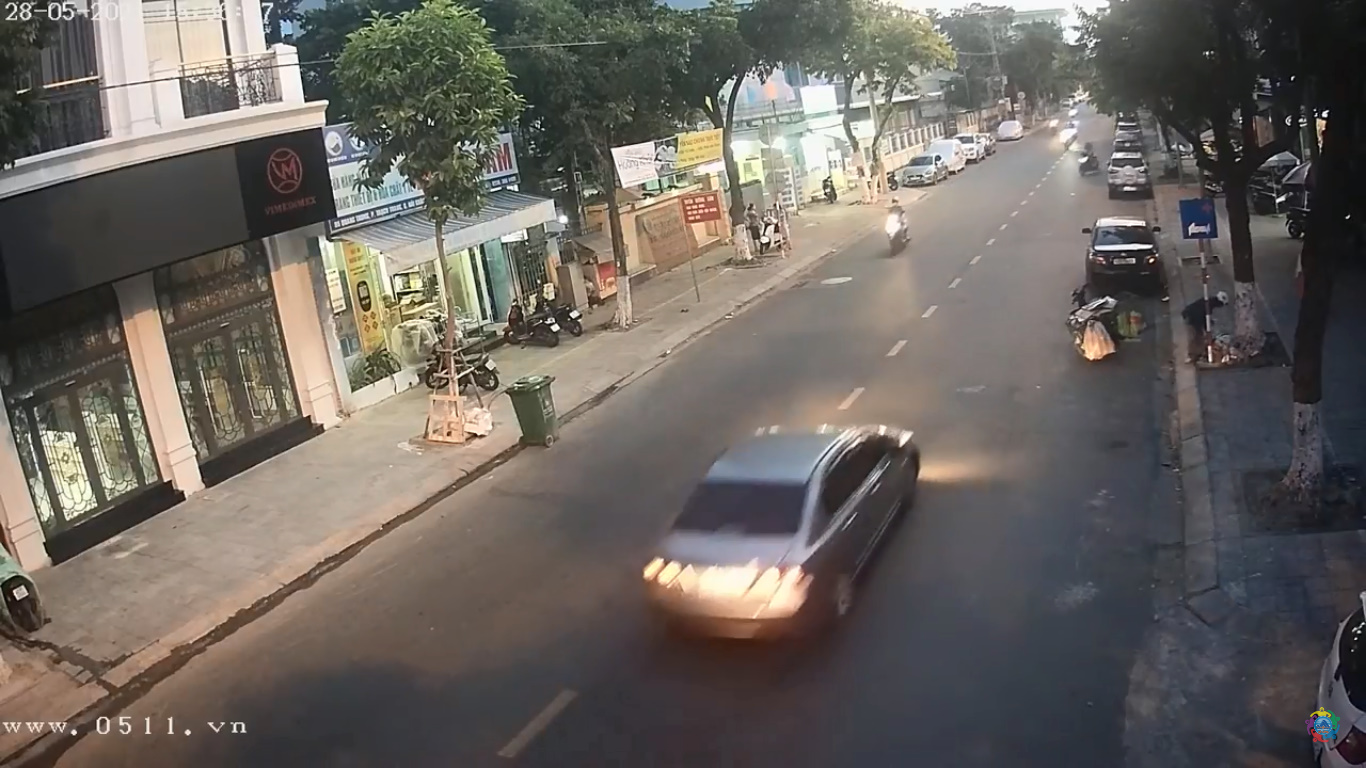car: (642, 424, 928, 640)
